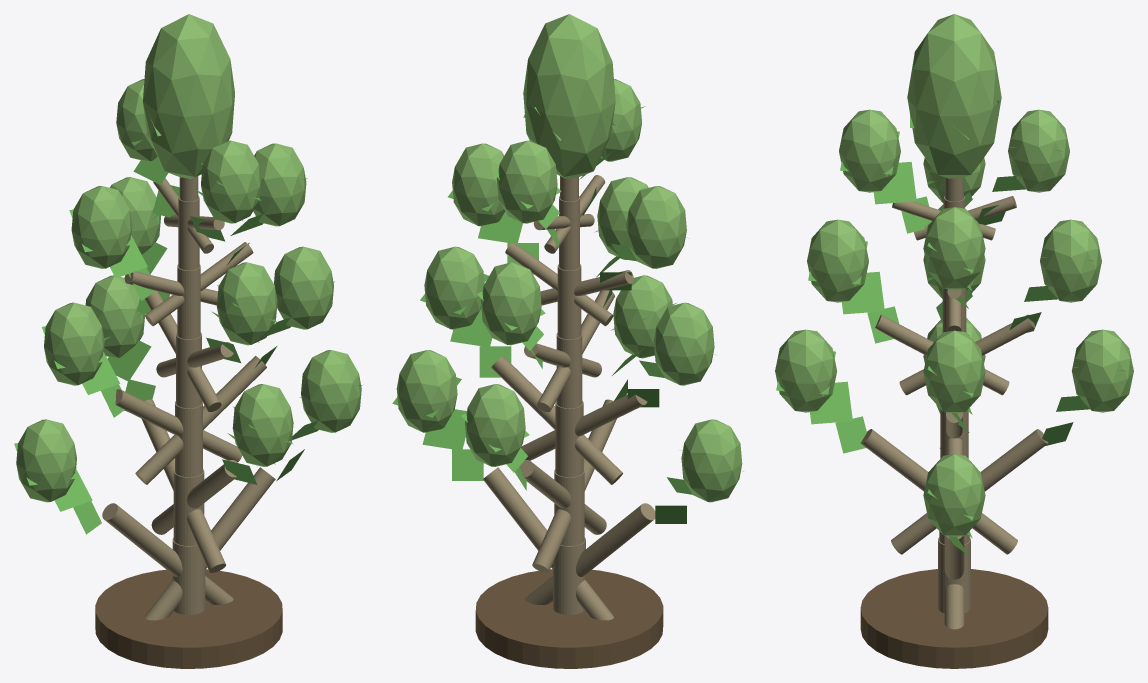
File: plant_stage_5_pre_flowering.glb
The picture shows the model from 3 angles, left to right: view 1: azimuth 30°, elevation 25°; view 2: azimuth 150°, elevation 25°; view 3: azimuth 270°, elevation 25°; orthographic projection.
Visible parts, largest first — view 1: Cylinder.089, Icosphere.012, Icosphere.011, Icosphere.003, Icosphere.007, Icosphere, Icosphere.005, Icosphere.009, Icosphere.001, Icosphere.004, Icosphere.008, Icosphere.002 (+25 smaller); view 2: Cylinder.089, Icosphere.012, Icosphere.001, Icosphere.009, Icosphere.005, Icosphere.010, Icosphere.006, Icosphere.002, Icosphere, Icosphere.004, Icosphere.008, Icosphere.003 (+25 smaller); view 3: Cylinder.089, Icosphere.012, Icosphere.002, Icosphere.010, Icosphere.006, Icosphere, Icosphere.008, Icosphere.004, Icosphere.003, Icosphere.011, Icosphere.007, Cylinder.020 (+15 smaller).
Part boxes in pixels (bbox=[...]): Cylinder.089: bbox=[95, 569, 282, 668]; Icosphere.012: bbox=[143, 14, 234, 179]; Icosphere.011: bbox=[201, 140, 261, 223]; Icosphere.003: bbox=[232, 384, 293, 466]; Icosphere.007: bbox=[216, 262, 277, 345]; Icosphere: bbox=[301, 350, 361, 432]; Icosphere.005: bbox=[44, 302, 104, 385]; Icosphere.009: bbox=[71, 186, 132, 268]; Icosphere.001: bbox=[16, 419, 76, 502]; Icosphere.004: bbox=[274, 246, 333, 329]; Icosphere.008: bbox=[253, 143, 306, 226]; Icosphere.002: bbox=[85, 275, 145, 357]; Cylinder.089: bbox=[475, 569, 663, 668]; Icosphere.012: bbox=[523, 14, 615, 179]; Icosphere.001: bbox=[681, 419, 742, 502]; Icosphere.009: bbox=[626, 186, 686, 268]; Icosphere.005: bbox=[653, 302, 714, 385]; Icosphere.010: bbox=[497, 140, 557, 223]; Icosphere.006: bbox=[481, 262, 541, 345]; Icosphere.002: bbox=[465, 384, 525, 466]; Icosphere: bbox=[396, 350, 457, 432]; Icosphere.004: bbox=[424, 246, 484, 329]; Icosphere.008: bbox=[452, 143, 505, 226]; Icosphere.003: bbox=[613, 275, 672, 358]; Cylinder.089: bbox=[860, 569, 1048, 668]; Icosphere.012: bbox=[907, 14, 1001, 178]; Icosphere.002: bbox=[1072, 329, 1133, 412]; Icosphere.010: bbox=[1008, 109, 1069, 192]; Icosphere.006: bbox=[1040, 219, 1101, 302]; Icosphere: bbox=[923, 454, 985, 536]; Icosphere.008: bbox=[923, 207, 985, 289]; Icosphere.004: bbox=[923, 330, 985, 413]; Icosphere.003: bbox=[775, 329, 836, 412]; Icosphere.011: bbox=[839, 109, 900, 192]; Icosphere.007: bbox=[807, 219, 868, 302]; Cylinder.020: bbox=[860, 429, 1017, 554].
Size of the model in its own units: 0.3311 by 0.583 by 0.3058.
